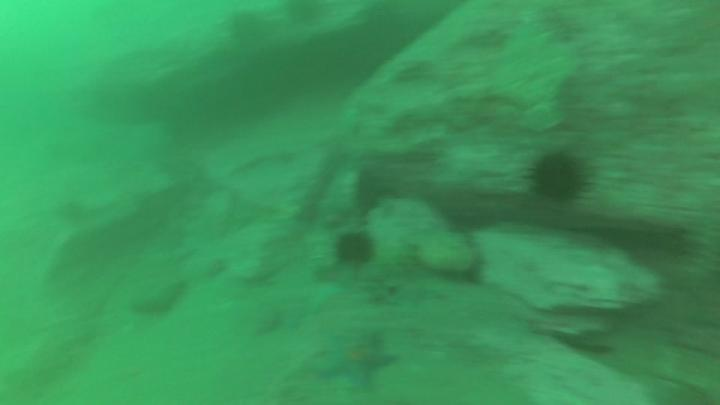echinus: (528, 148, 594, 209), (334, 230, 382, 268), (231, 10, 266, 47), (285, 1, 331, 26)
starfish: (314, 330, 397, 392)
